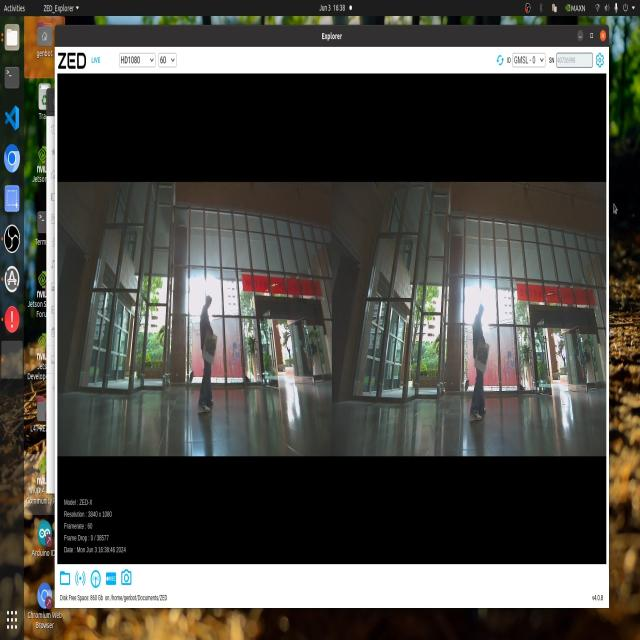green: (204, 328, 221, 368), (476, 341, 489, 371)
